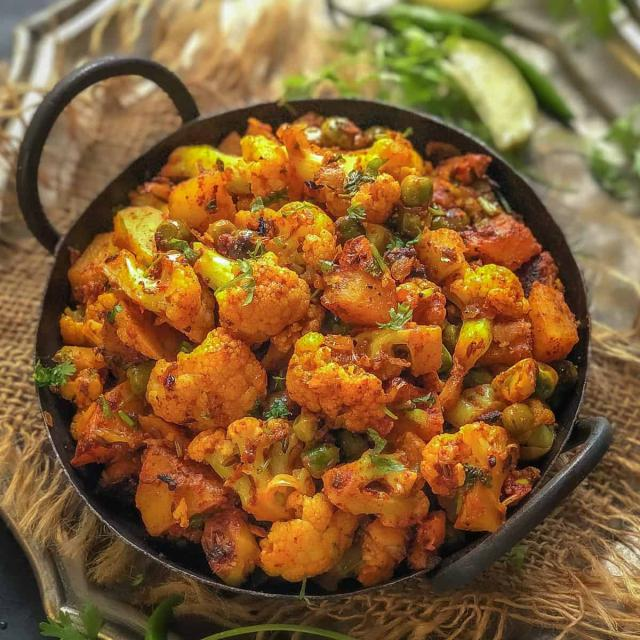cauliflower: (55, 207, 516, 566)
